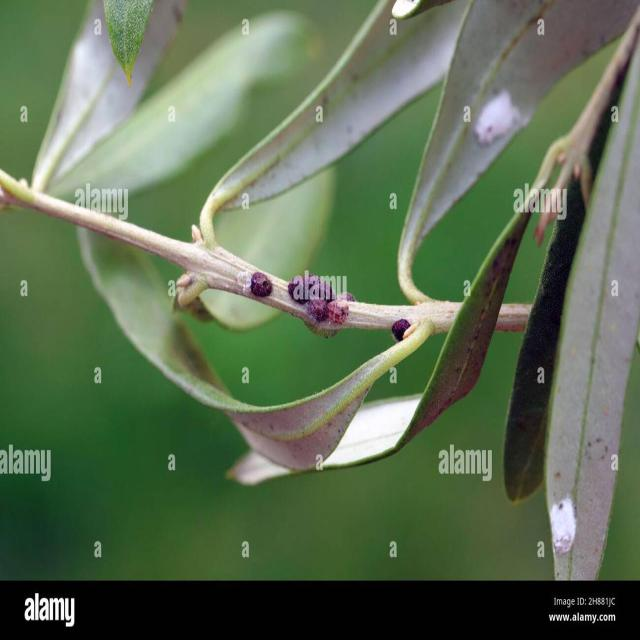Black Scale: (250, 271, 272, 297), (392, 318, 410, 342)
